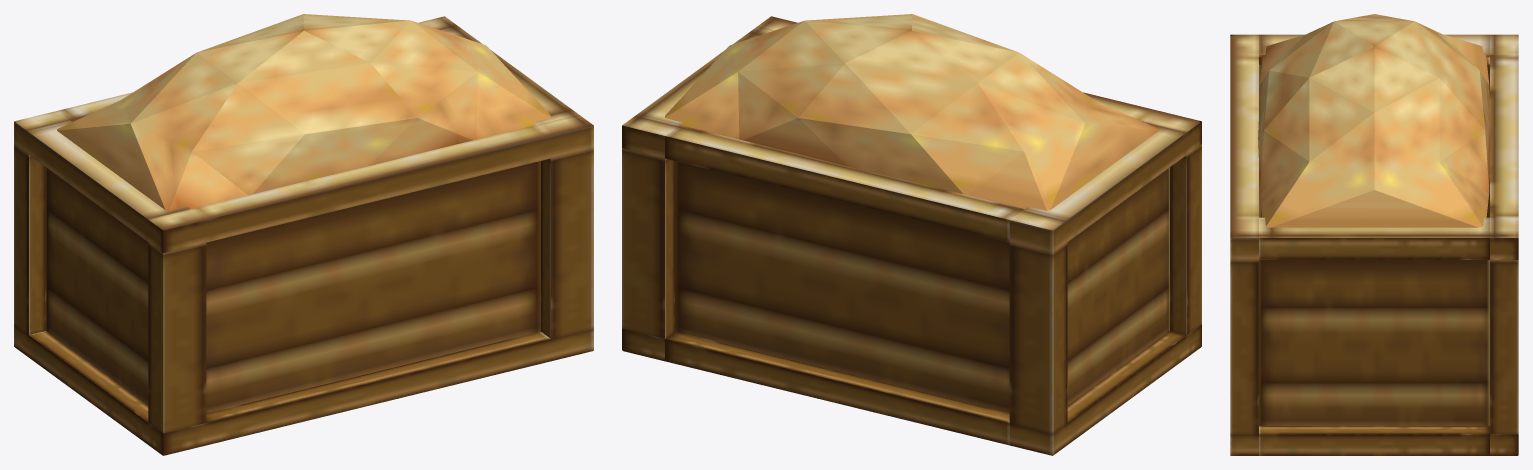
The model's file is Inside_Poly_Crate_03.obj.
3 renders of one model, left to right at view 1: azimuth 30°, elevation 25°; view 2: azimuth 150°, elevation 25°; view 3: azimuth 270°, elevation 25°, orthographic. The views are drawn at different scales.
Visible parts, largest first — view 1: Cube, Icosphere; view 2: Cube, Icosphere; view 3: Cube, Icosphere.
Boxes of the visible parts, left/top/right/bottom form: Cube: left=14, top=16, right=593, bottom=455; Icosphere: left=57, top=14, right=550, bottom=210; Cube: left=622, top=16, right=1201, bottom=455; Icosphere: left=665, top=14, right=1158, bottom=210; Cube: left=1230, top=34, right=1518, bottom=455; Icosphere: left=1258, top=14, right=1490, bottom=227.
Bounding box in the file's own units: 1 × 0.7057 × 0.6.
Materials: 1 (1 with a texture image).
